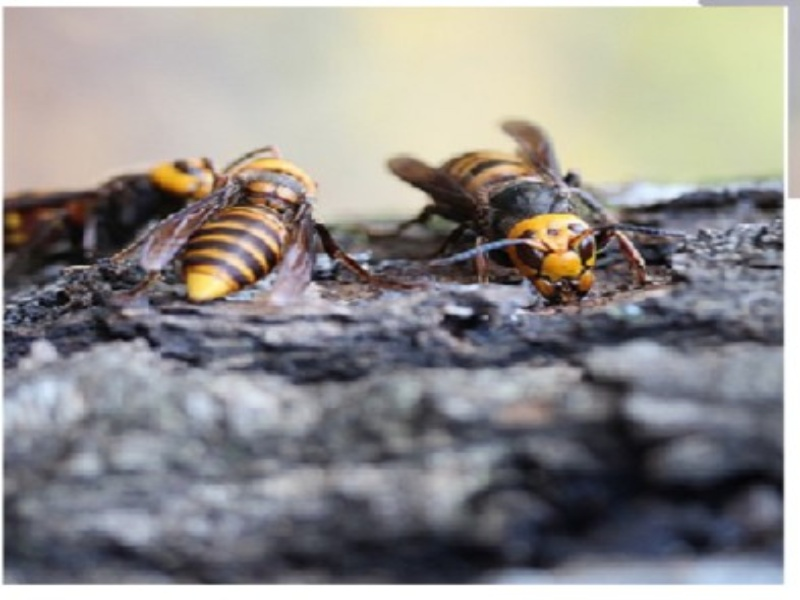asian_giant_hornet: (421, 147, 615, 306), (183, 153, 324, 306), (2, 156, 222, 250)
